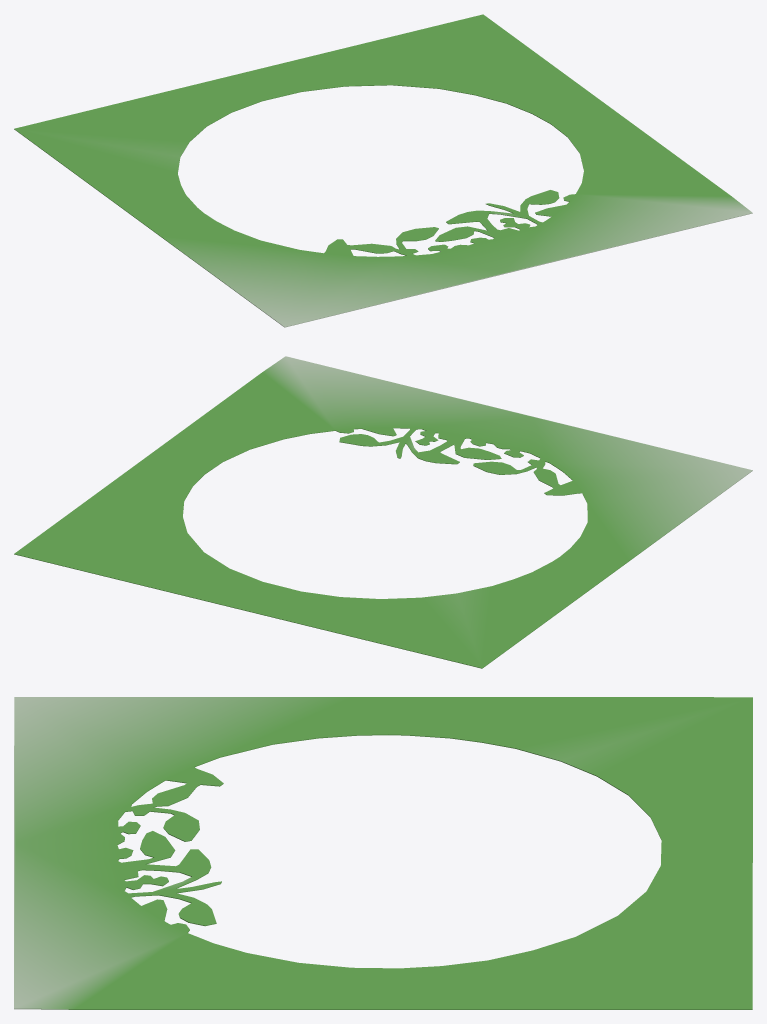
Rendered from Summer_B_1.fbx.
3 renders of one model, top to bottom at view 1: azimuth 30°, elevation 25°; view 2: azimuth 150°, elevation 25°; view 3: azimuth 270°, elevation 25°, orthographic. The views are drawn at different scales.
Visible parts, largest first — view 1: 1_B; view 2: 1_B; view 3: 1_B.
Boxes of the visible parts, left/top/right/bottom form: 1_B: left=14, top=14, right=752, bottom=327; 1_B: left=14, top=356, right=752, bottom=668; 1_B: left=14, top=697, right=752, bottom=1009.
Size of the model in its own units: 1.98 by 1.99 by 0.002.
